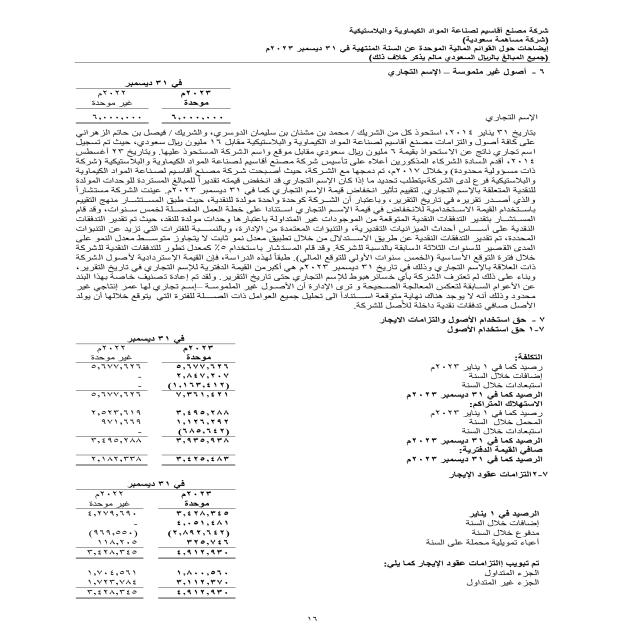notes: (447, 43, 552, 54)
table: (62, 325, 251, 477), (63, 482, 256, 608), (60, 70, 243, 130)
